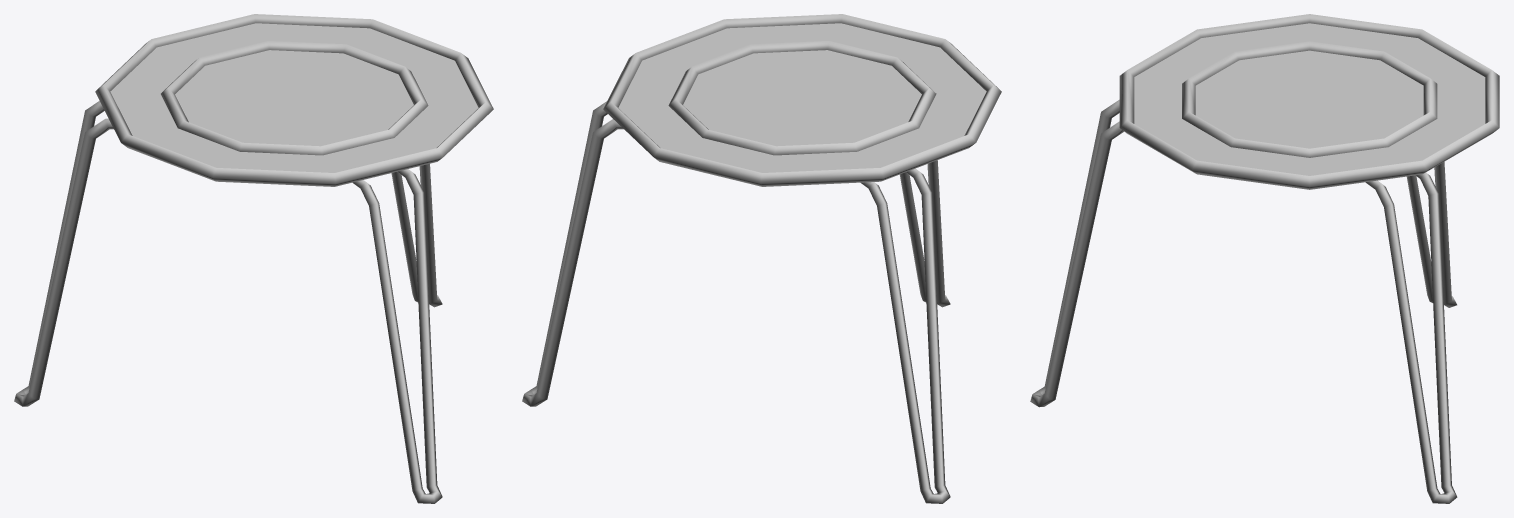
The model's file is CR_sci_Tripod_001.FBX.
The picture shows the model from 3 angles, left to right: view 1: azimuth 30°, elevation 25°; view 2: azimuth 150°, elevation 25°; view 3: azimuth 270°, elevation 25°; orthographic projection.
Visible parts, largest first — view 1: CR_sci_Tripod_001_al, CR_sci_Tripod_001; view 2: CR_sci_Tripod_001_al, CR_sci_Tripod_001; view 3: CR_sci_Tripod_001_al, CR_sci_Tripod_001.
Part boxes in pixels (left/top/right/bottom): CR_sci_Tripod_001_al: left=110, top=23, right=478, bottom=172; CR_sci_Tripod_001: left=14, top=14, right=493, bottom=503; CR_sci_Tripod_001_al: left=618, top=23, right=986, bottom=172; CR_sci_Tripod_001: left=522, top=14, right=1001, bottom=503; CR_sci_Tripod_001_al: left=1134, top=23, right=1485, bottom=175; CR_sci_Tripod_001: left=1030, top=14, right=1499, bottom=503.
Bounding box in the file's own units: 19.31 × 13.59 × 18.73.
